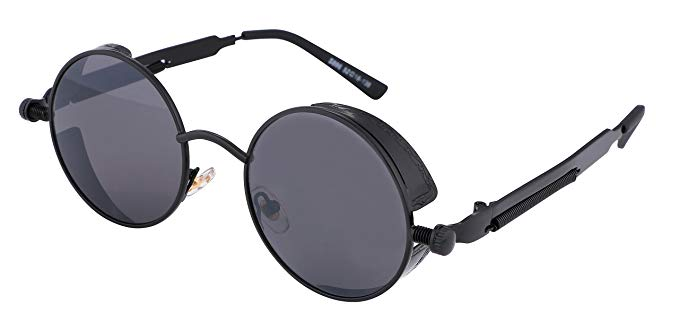sunglasses: (25, 28, 656, 297)
